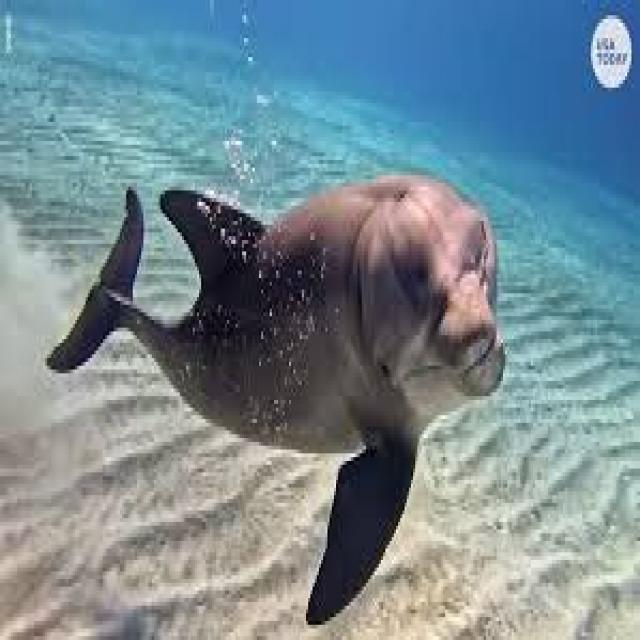dolphin: (54, 152, 522, 614)
